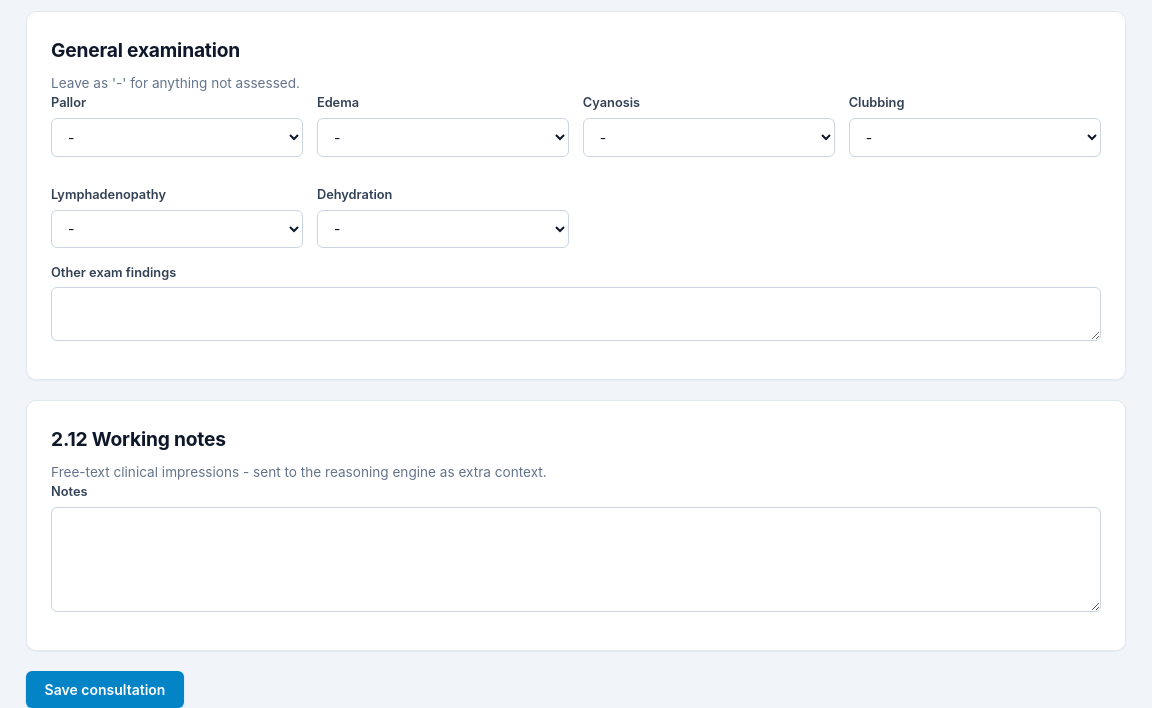
Test: Intake Form Validation & Calculations › rejects form submission and shows validation error when full name is empty
(page scrolled)
Note: Attempt submission with empty name
Click the button "Save consultation": point(105, 690) [26, 671, 184, 707]
(page scrolled)
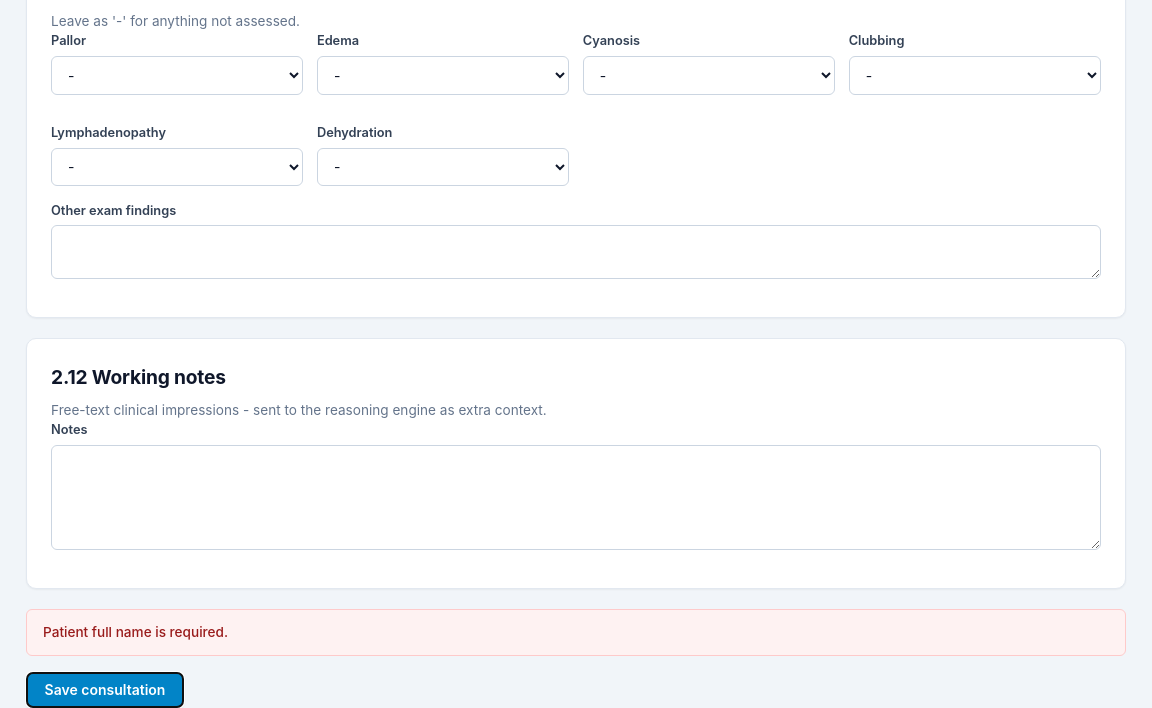
expect the message reads "Patient full name is required.": met, box [43, 624, 228, 640]
